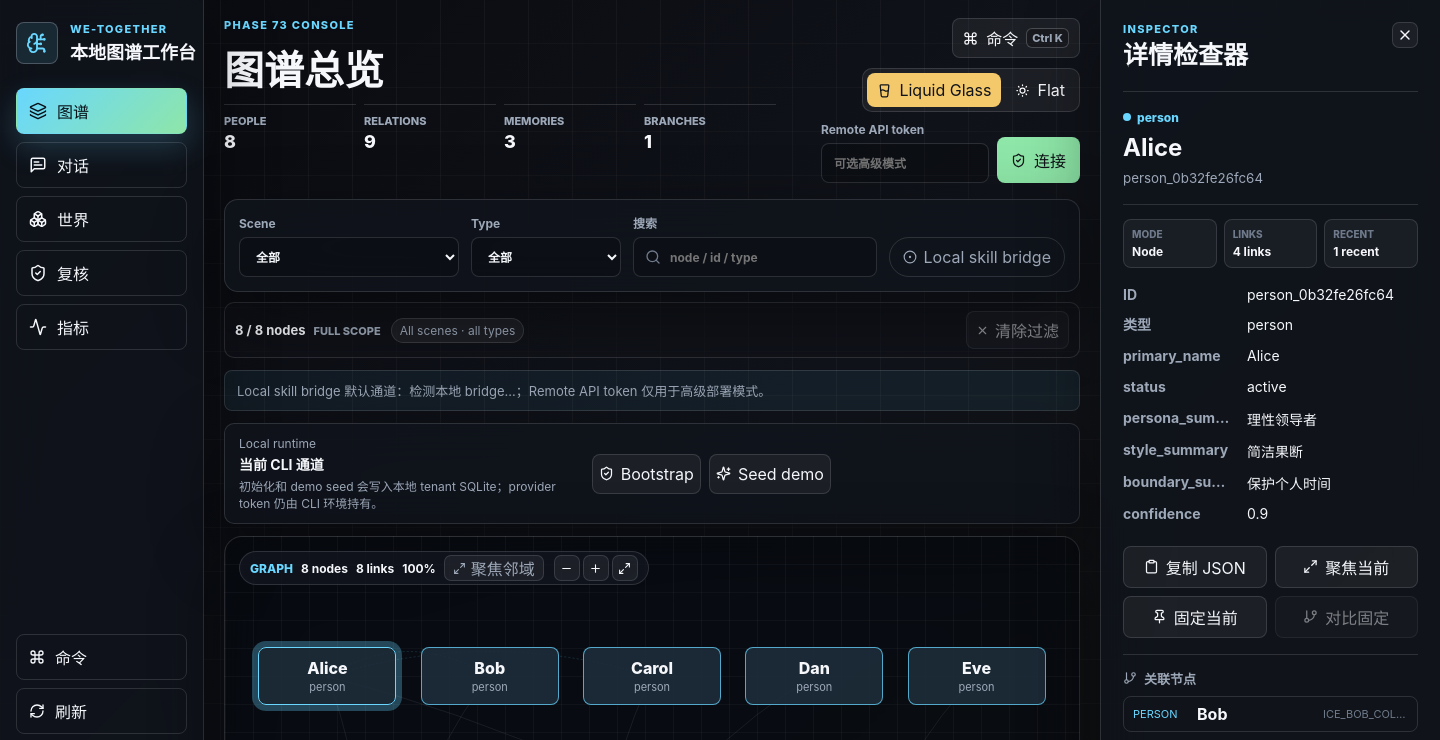
Test: WeTogether WebUI › uses the command palette to clear active graph filters
Type "memory" into the field labelled "搜索".
click(755, 257); type("memory")  # box [633,237,877,277]
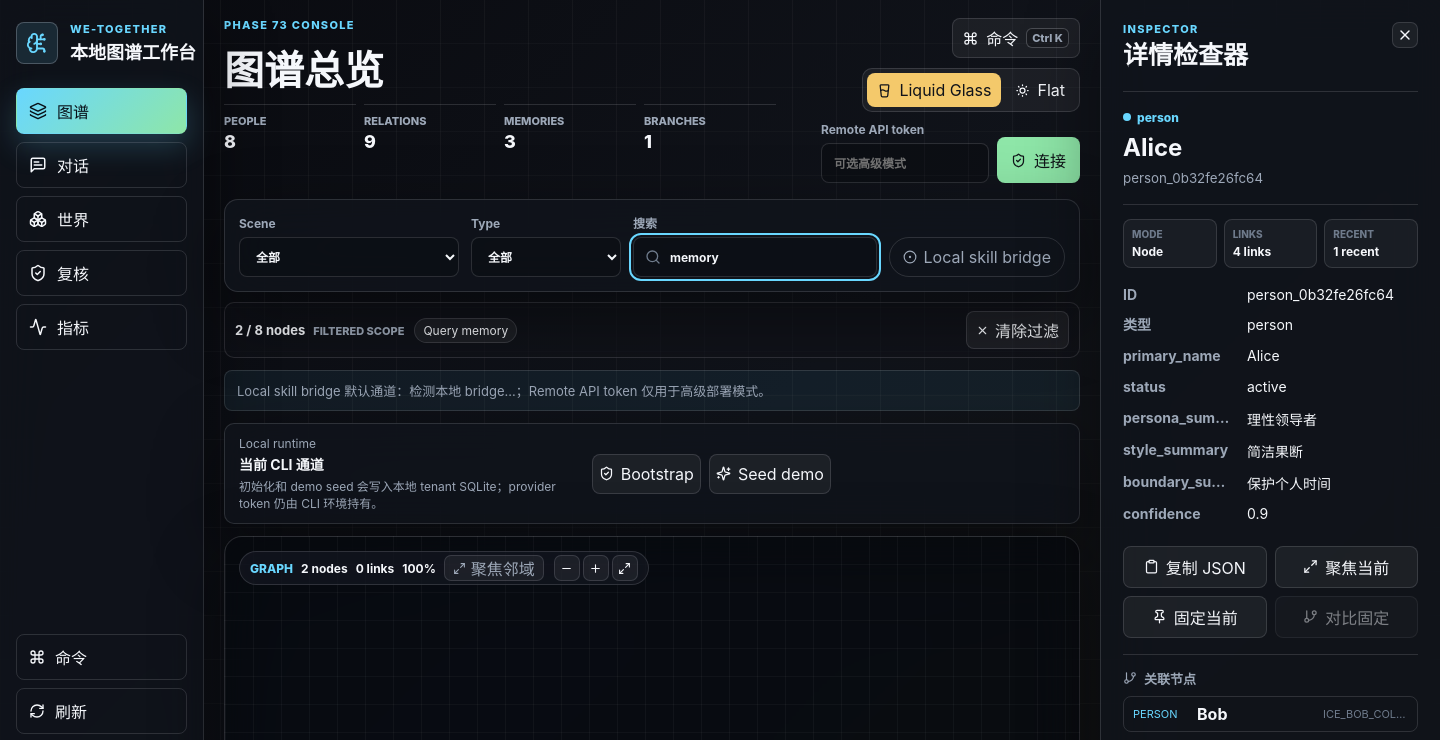
Expected: the element named "过滤状态" shows "2 / 8 nodes", [224,302,1080,358]
Click the button "命令 Ctrl K".
click(1016, 38)  # box [952,18,1080,58]
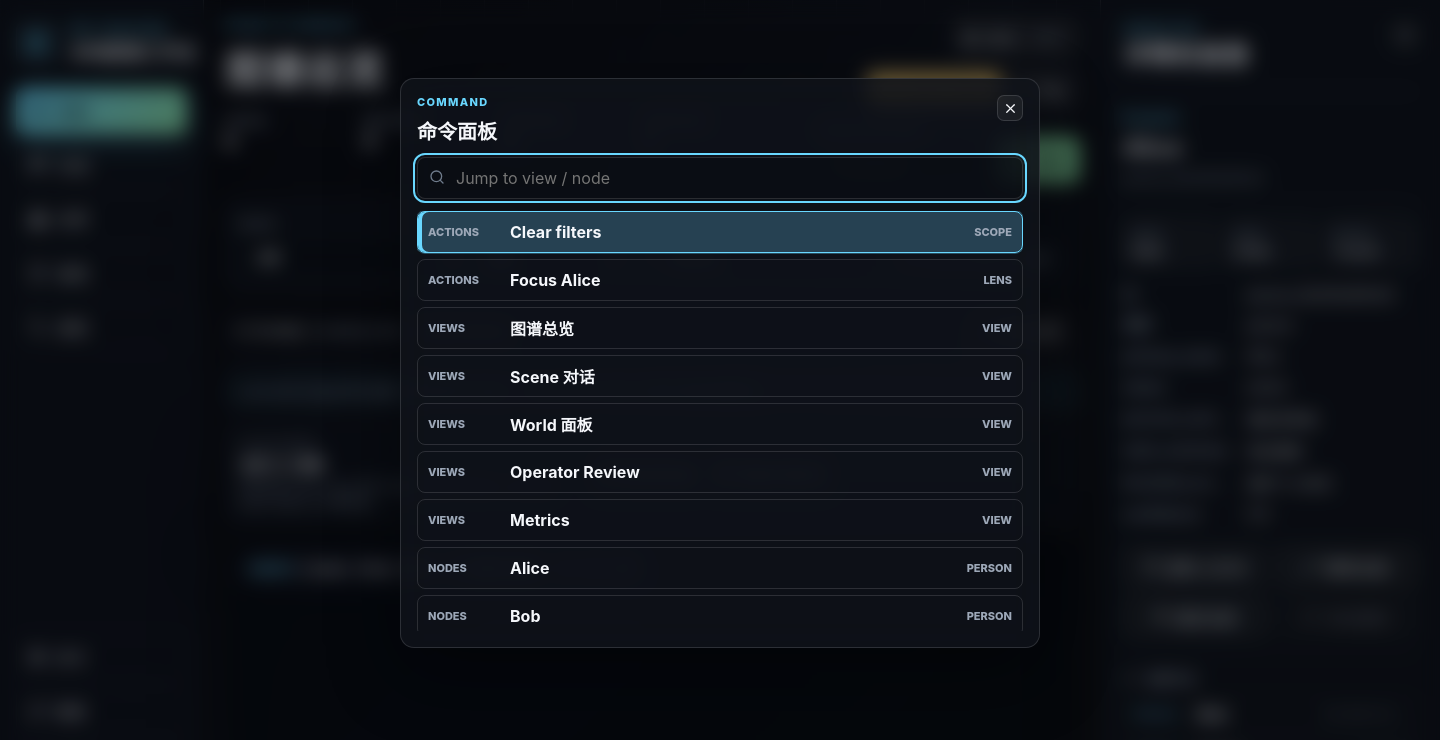
Type "Clear filters" into the field named "命令搜索".
click(720, 178); type("Clear filters")  # box [417,157,1023,199]
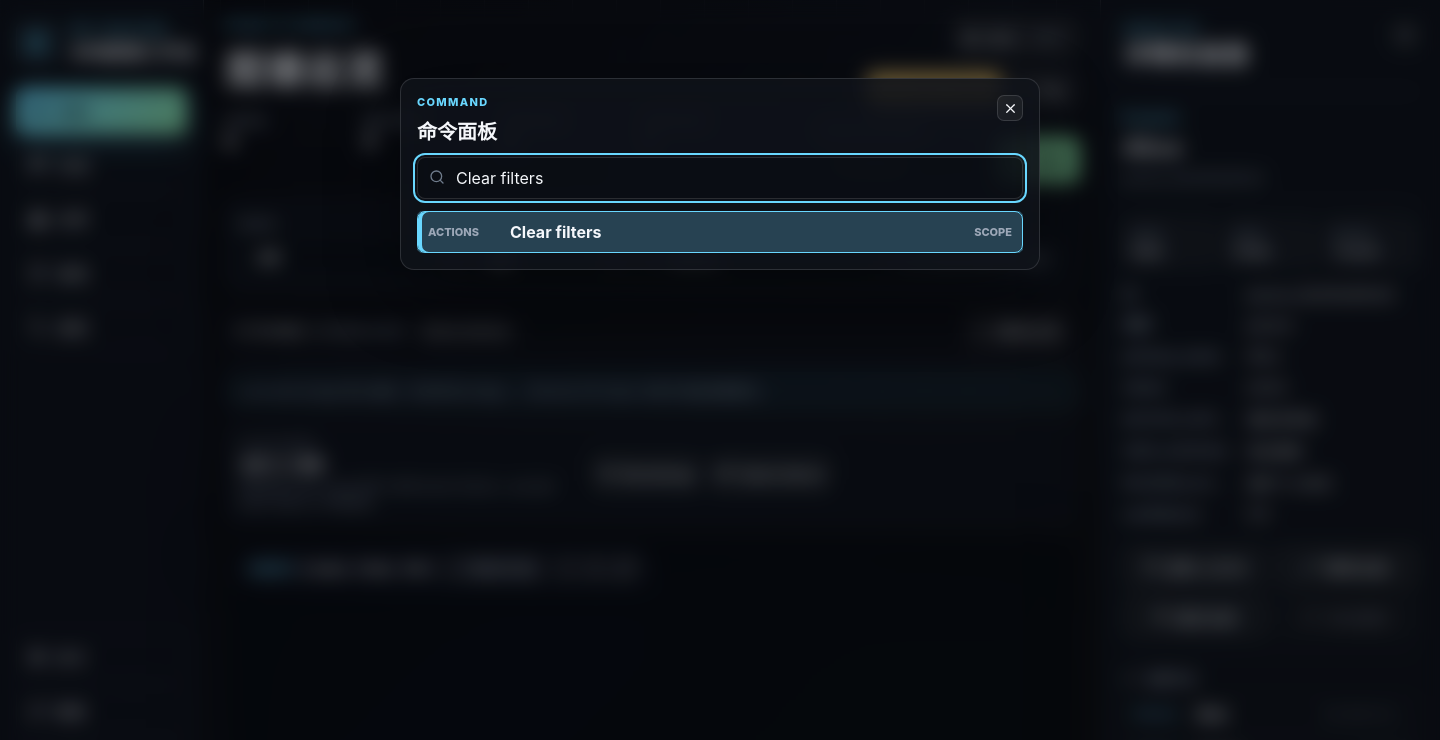
Press Enter
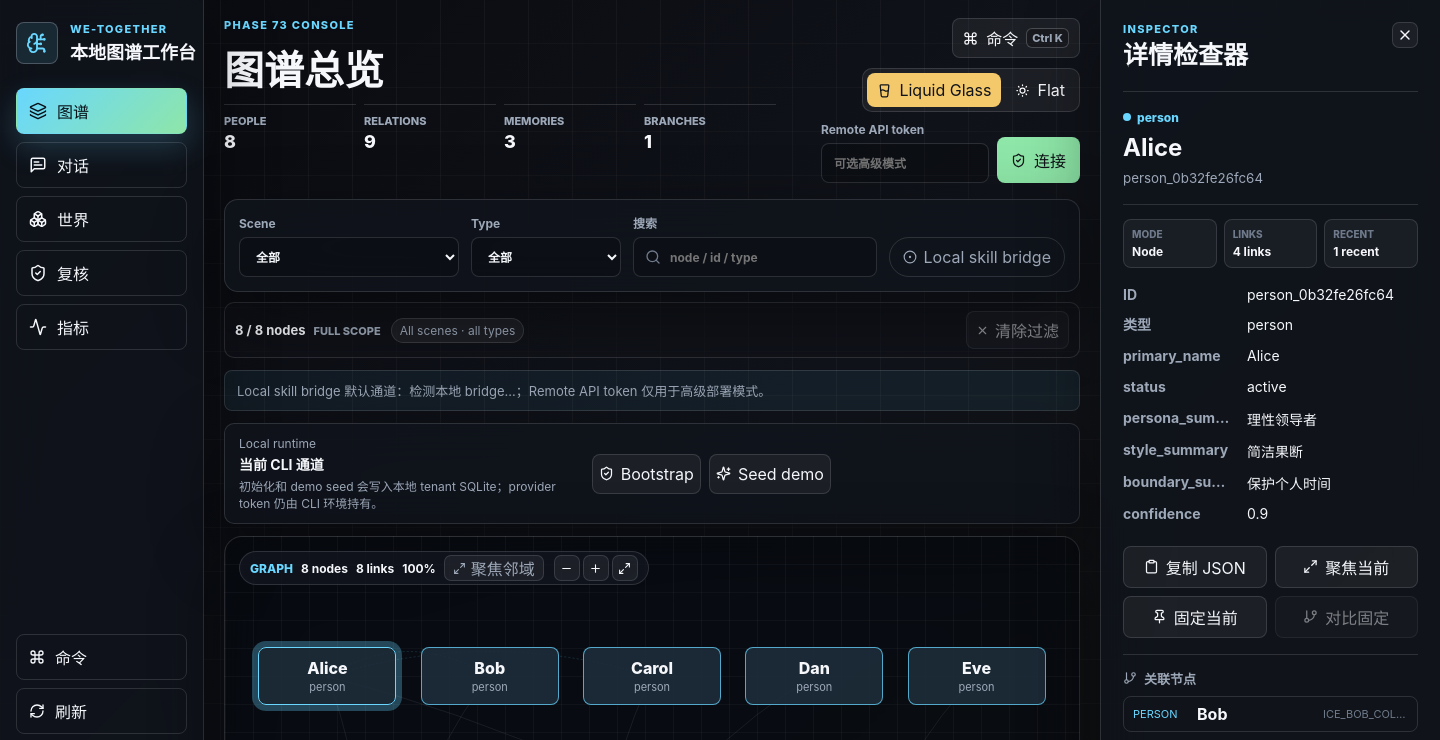
Expected: the heading "命令面板" is gone
Expected: the text "8 / 8 nodes" is shown, [235,322,306,338]
Expected: the field labelled "搜索" is empty, [633,237,877,277]
